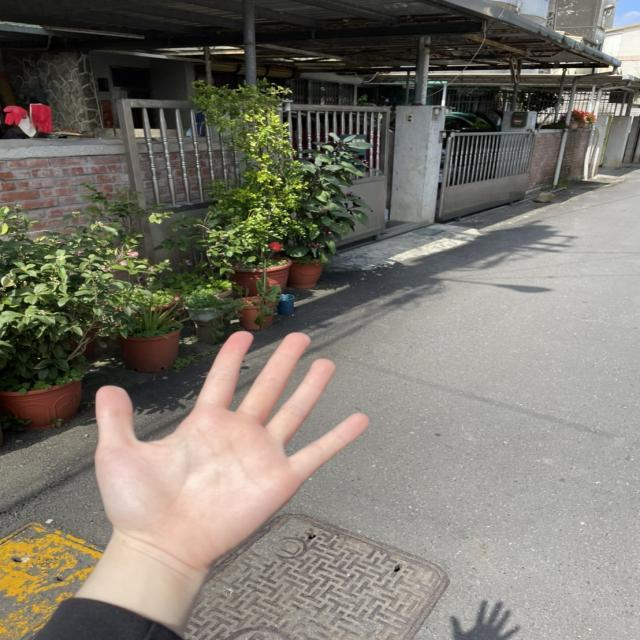hand: (78, 320, 381, 574)
